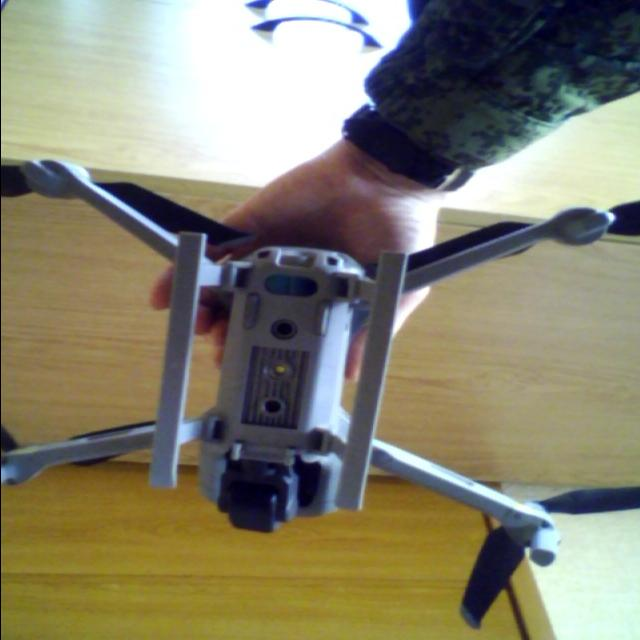drone: (0, 155, 640, 572)
